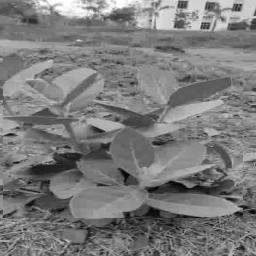CALOTROPIS: (4, 49, 244, 219)
